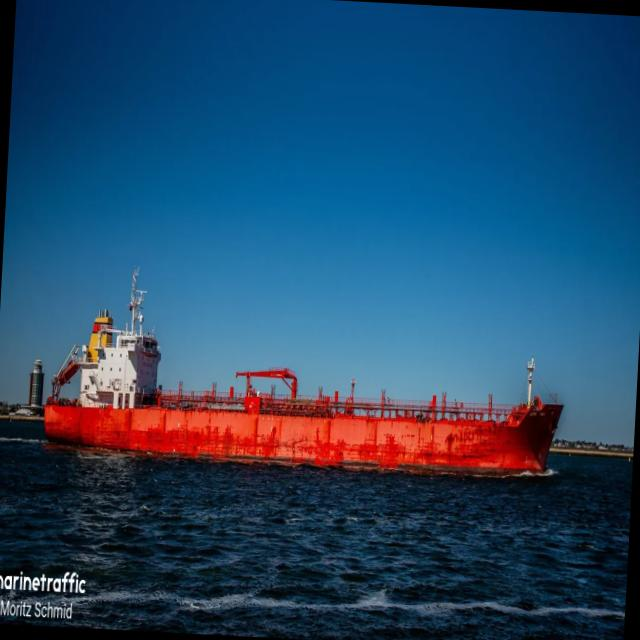Tanker: (44, 270, 563, 473)
